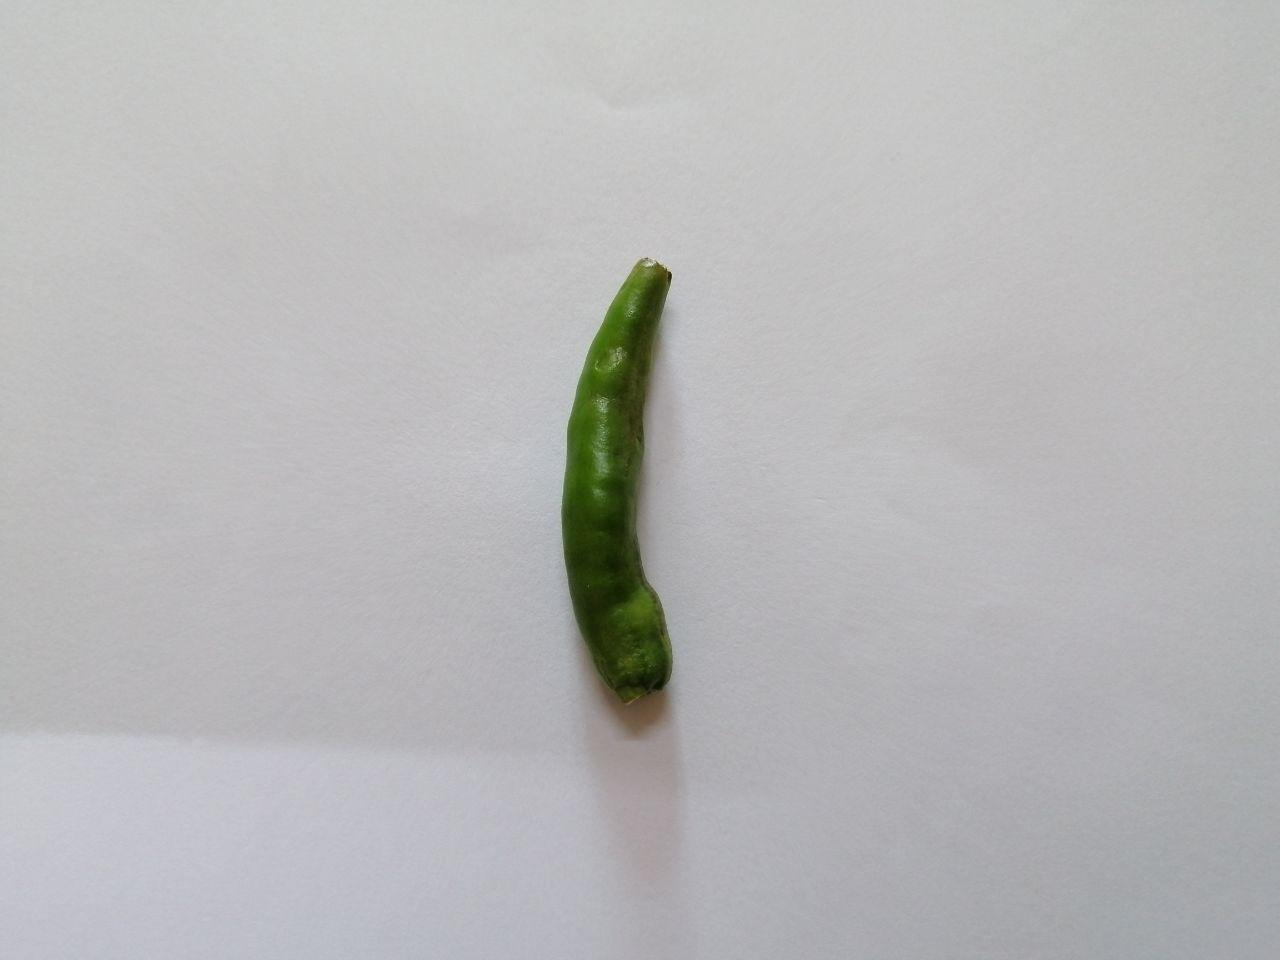lada hijau: (550, 247, 705, 717)
